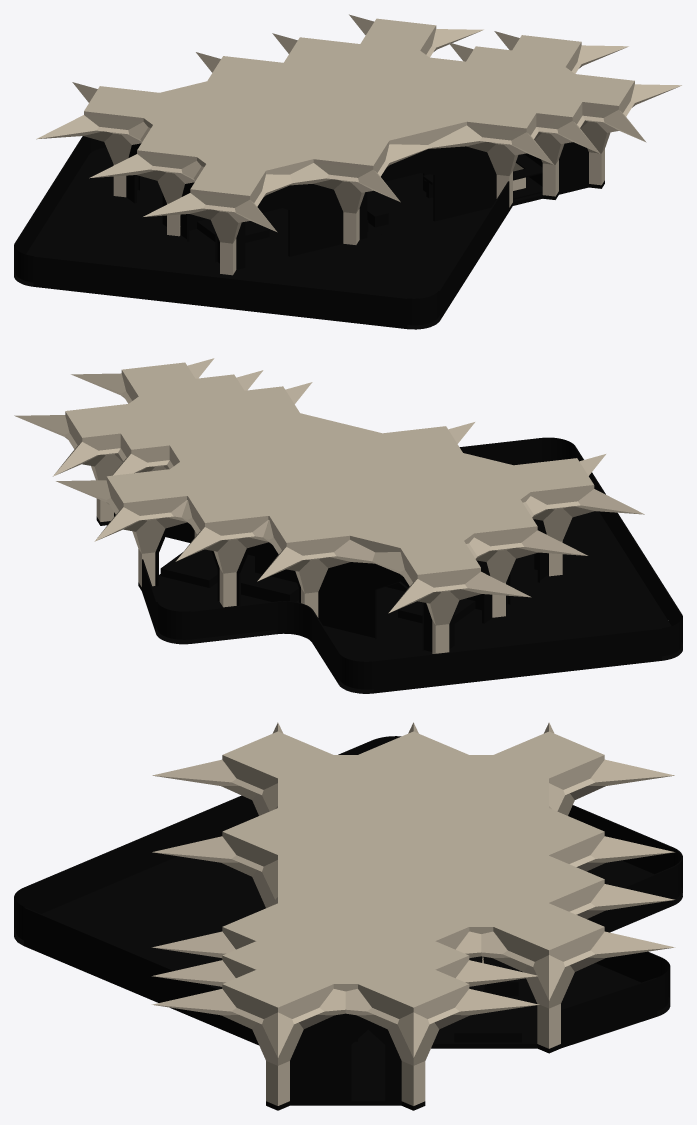
The picture shows the model from 3 angles, top to bottom: view 1: azimuth 30°, elevation 25°; view 2: azimuth 150°, elevation 25°; view 3: azimuth 270°, elevation 25°; orthographic projection. The views are drawn at different scales.
Visible parts, largest first — view 1: santech, object 3, object 4, object 5, object 14, object 8, object 19, object 9, object 30, object 29, object 63; view 2: santech, object 4, object 3, object 5, object 31, object 12, object 34, object 23, object 10, object 29, object 30; view 3: santech, object 4, object 3, object 6, object 5, object 12, object 34.
Boxes of the visible parts, left/top/right/bottom form: santech: left=36, top=14, right=681, bottom=275; object 3: left=14, top=147, right=509, bottom=329; object 4: left=14, top=136, right=509, bottom=325; object 5: left=135, top=173, right=604, bottom=267; object 14: left=359, top=146, right=496, bottom=239; object 8: left=236, top=184, right=343, bottom=269; object 19: left=559, top=142, right=588, bottom=190; object 9: left=197, top=219, right=269, bottom=242; object 30: left=179, top=182, right=219, bottom=263; object 29: left=126, top=143, right=166, bottom=226; object 63: left=513, top=154, right=542, bottom=180; santech: left=14, top=358, right=644, bottom=653; object 4: left=142, top=437, right=682, bottom=689; object 3: left=142, top=511, right=682, bottom=693; object 5: left=96, top=516, right=539, bottom=652; object 31: left=318, top=562, right=432, bottom=653; object 12: left=160, top=551, right=217, bottom=587; object 34: left=241, top=572, right=298, bottom=601; object 23: left=398, top=598, right=475, bottom=623; object 10: left=255, top=545, right=296, bottom=582; object 29: left=449, top=560, right=492, bottom=648; object 30: left=506, top=519, right=548, bottom=606; santech: left=152, top=722, right=675, bottom=1105; object 4: left=14, top=736, right=682, bottom=1043; object 3: left=14, top=856, right=682, bottom=1048; object 6: left=290, top=1013, right=401, bottom=1101; object 5: left=266, top=956, right=560, bottom=1110; object 12: left=454, top=1007, right=521, bottom=1042; object 34: left=484, top=957, right=518, bottom=996.
Size of the model in its own units: 26.86 by 3.96 by 19.74.
